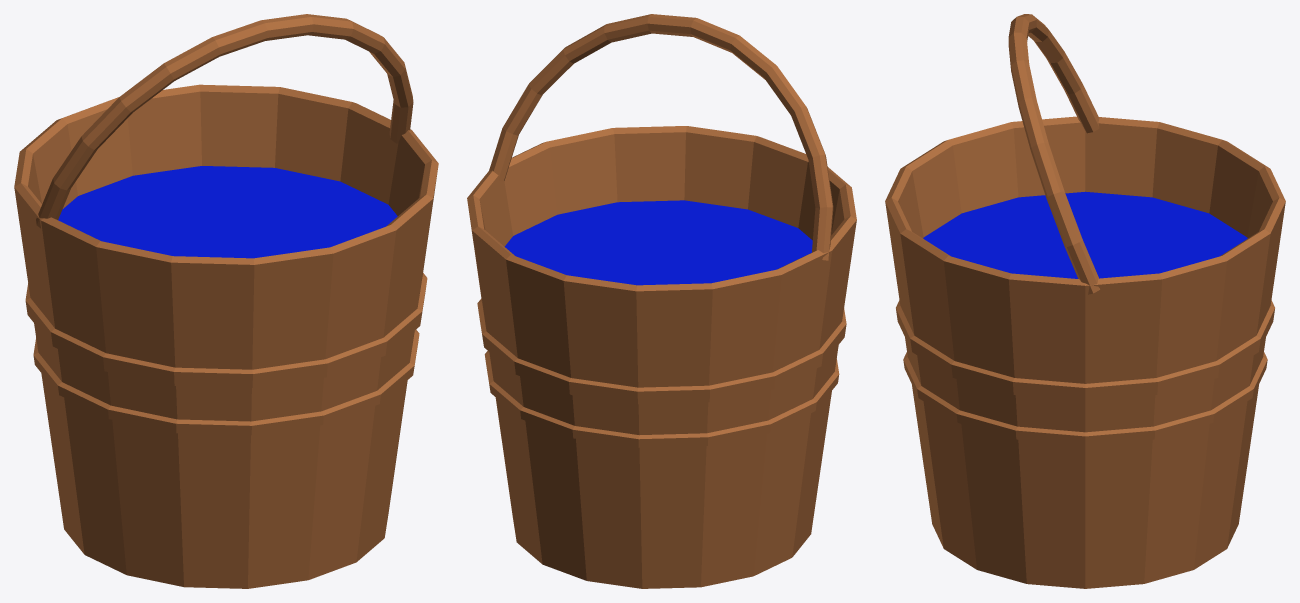
File: Bucket.fbx
The picture shows the model from 3 angles, left to right: view 1: azimuth 30°, elevation 25°; view 2: azimuth 150°, elevation 25°; view 3: azimuth 270°, elevation 25°; orthographic projection. The views are drawn at different scales.
Visible parts, largest first — view 1: Bucket; view 2: Bucket; view 3: Bucket.
Part boxes in pixels (x1=…): Bucket: x1=14, y1=14, x2=438, y2=588; Bucket: x1=467, y1=14, x2=856, y2=588; Bucket: x1=885, y1=14, x2=1285, y2=588.
Size of the model in its own units: 80.43 by 109 by 80.33.
